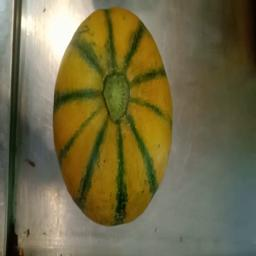Melon Fresh: (47, 5, 178, 228)
